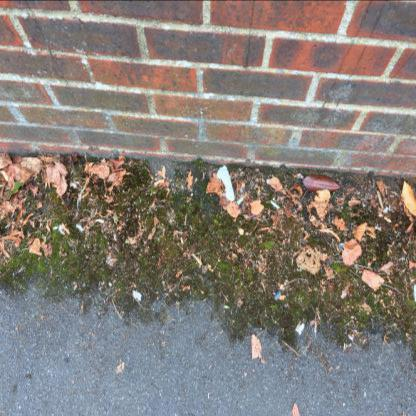Aluminium foil: (217, 165, 235, 201)
Other plastic: (272, 290, 282, 302)
